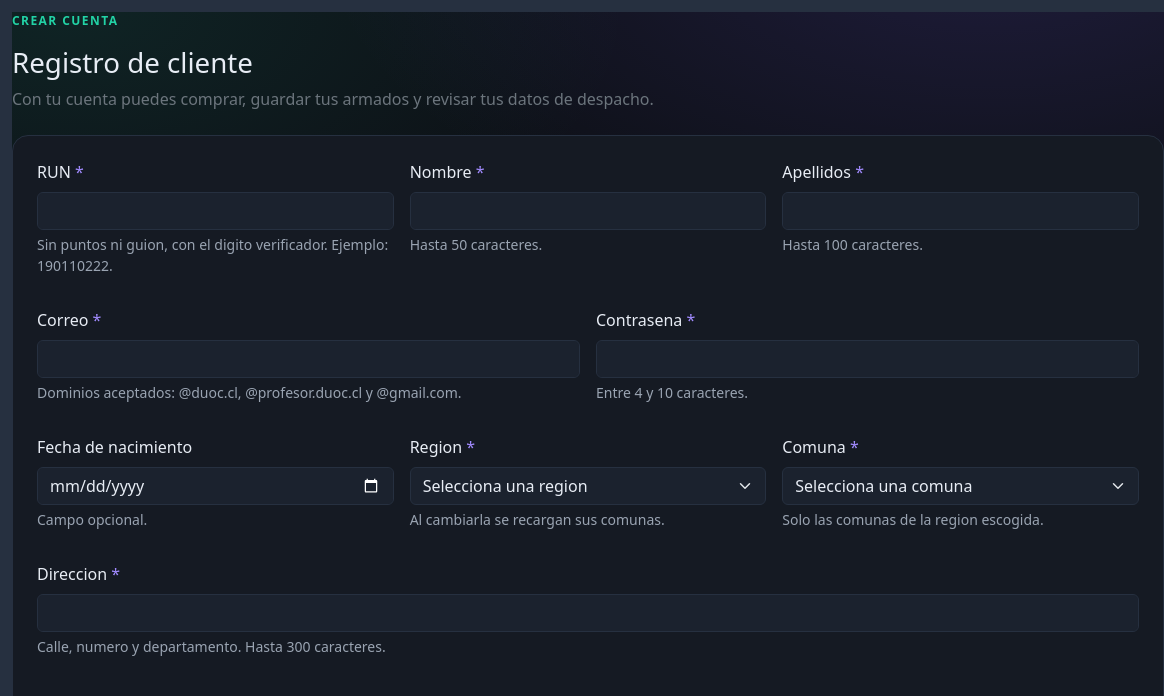
Registro › un RUN con el digito verificador incorrecto muestra el error al escribir
In the field labelled "RUN *": {"x": 215, "y": 211} [37,192,394,230], type "123456784"
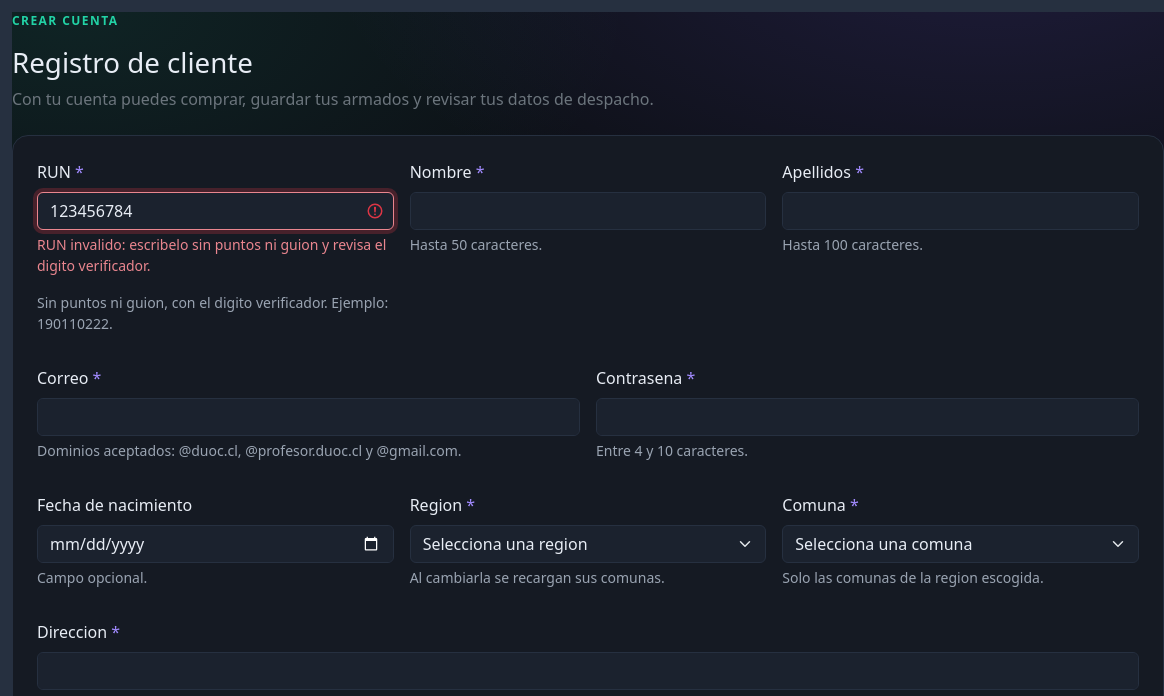
Check: the text "RUN invalido" is shown, box [37,235,386,275]
